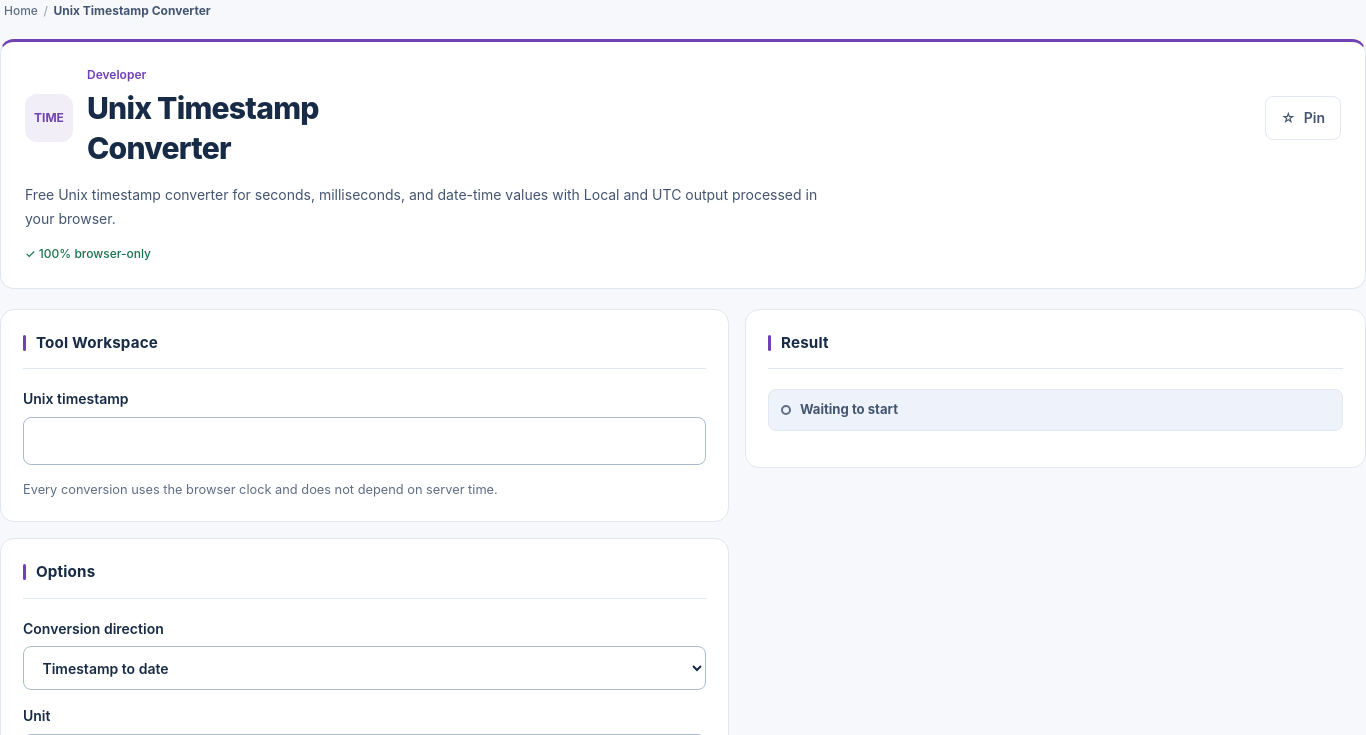
it: UnixTimestampPage › clears both timestamp and date inputs
Select "Date to timestamp" in the dropdown labelled "Conversion direction" at (364, 668), box [23,646,706,690]
(page scrolled)
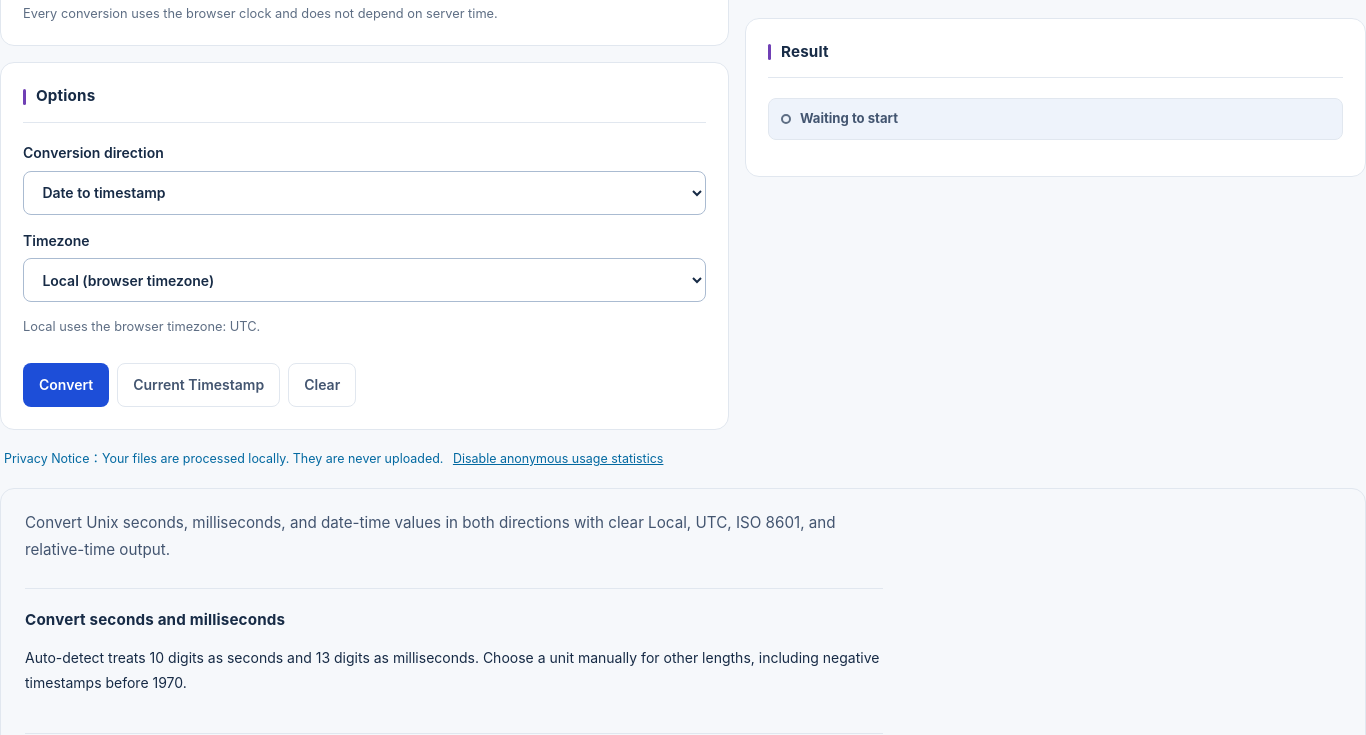
Click the button "Clear" at (322, 385), box [288,363,356,407]
(page scrolled)
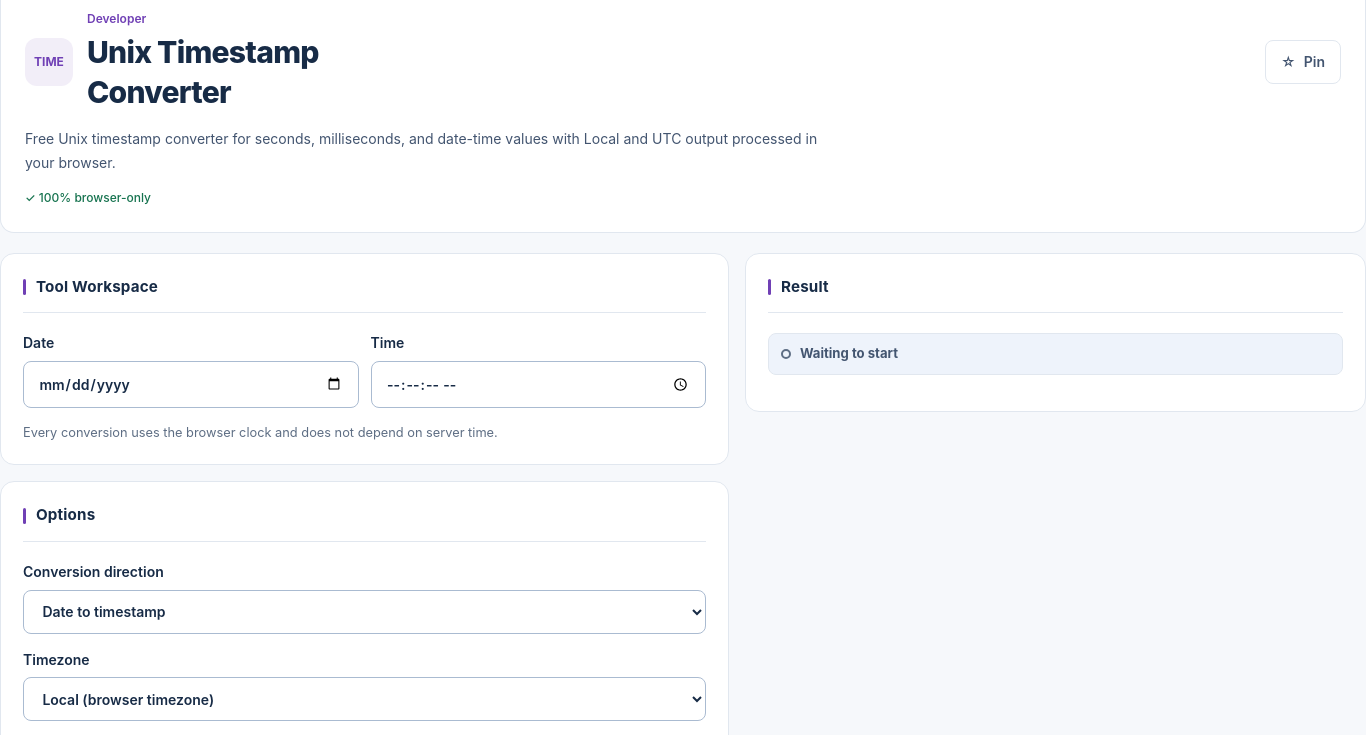
Check: the date field labelled "Date" is empty, box [23,361,358,408]
Check: the time field labelled "Time" is empty, box [370,361,706,408]
